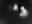person: (20, 6, 30, 20), (15, 4, 19, 12)
